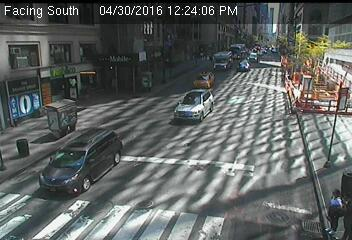neg: (165, 50, 195, 90), (238, 78, 265, 115), (117, 184, 144, 220), (258, 187, 284, 222), (70, 62, 95, 95), (127, 51, 152, 84), (13, 82, 38, 115), (297, 68, 321, 101), (215, 115, 239, 147), (150, 120, 173, 151), (295, 137, 318, 167), (78, 134, 100, 164), (193, 162, 215, 191), (16, 135, 38, 164), (235, 35, 256, 63)
pos: (311, 183, 348, 232)
